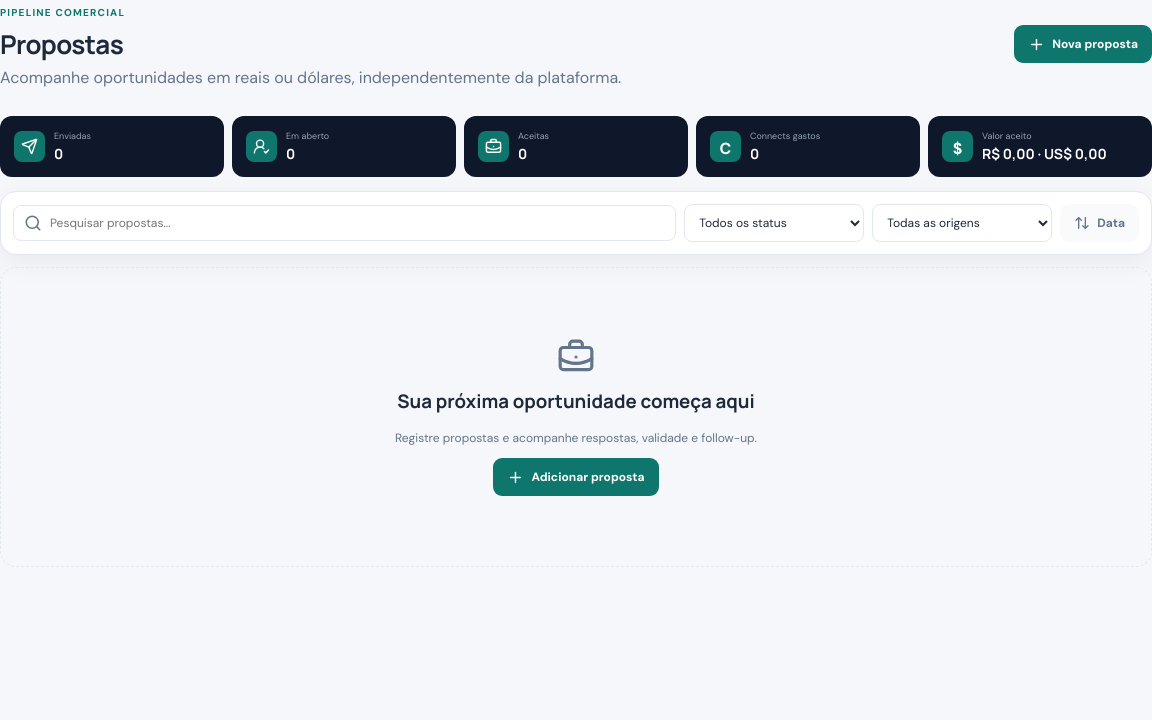
Scenario: Propostas V2 › cria proposta em USD com dados opcionais apenas quando relevantes
Click the button "Nova proposta". click: (1083, 44)
box: [1014,25,1151,63]
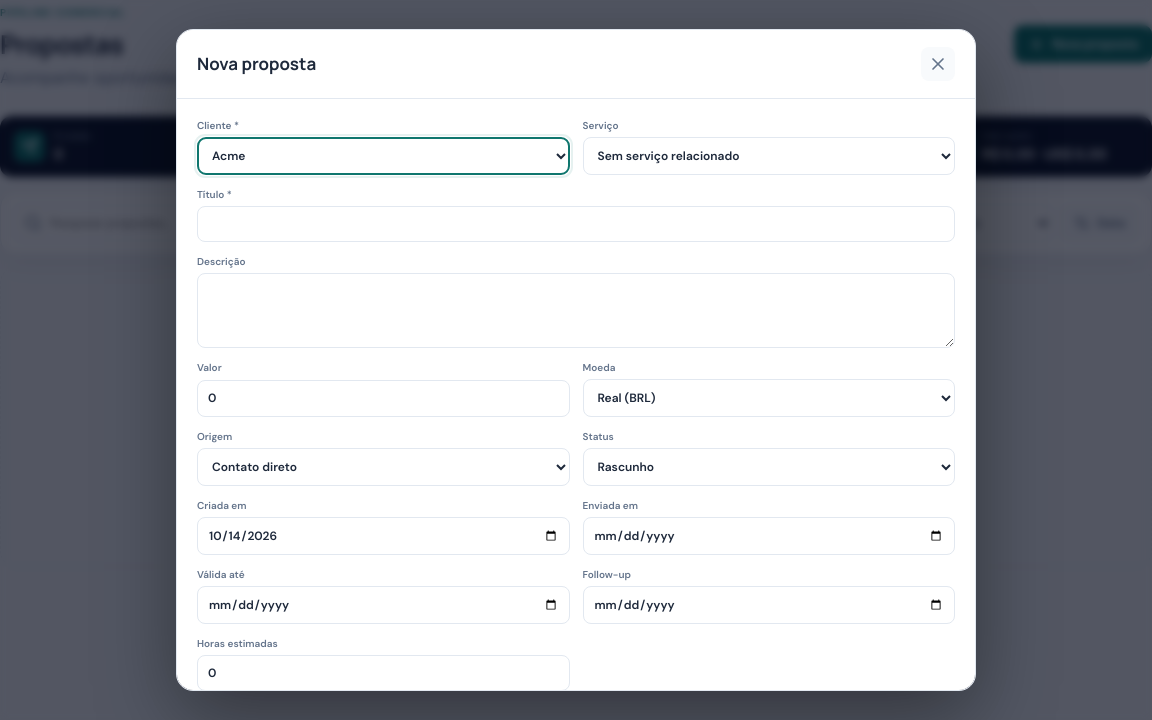
Type "API internacional" into the field labelled "Título *". click: (576, 224)
box: [197,206,955,242]
Replace the text in the number field labelled "Valor" with "800". click: (383, 398)
box: [197,380,570,417]
Select "Dólar (USD)" in the dropdown labelled "Moeda". click: (769, 398)
box: [582,379,955,417]
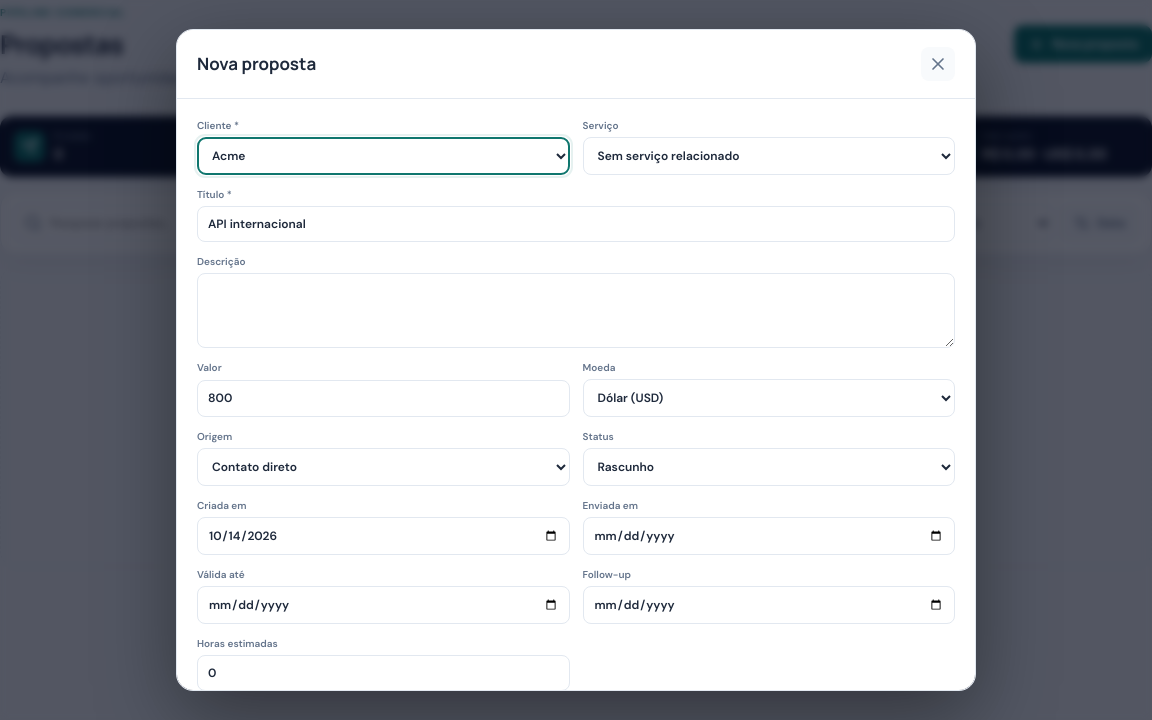
Select "Upwork" in the dropdown labelled "Origem". click: (383, 467)
box: [197,448,570,486]
(page scrolled)
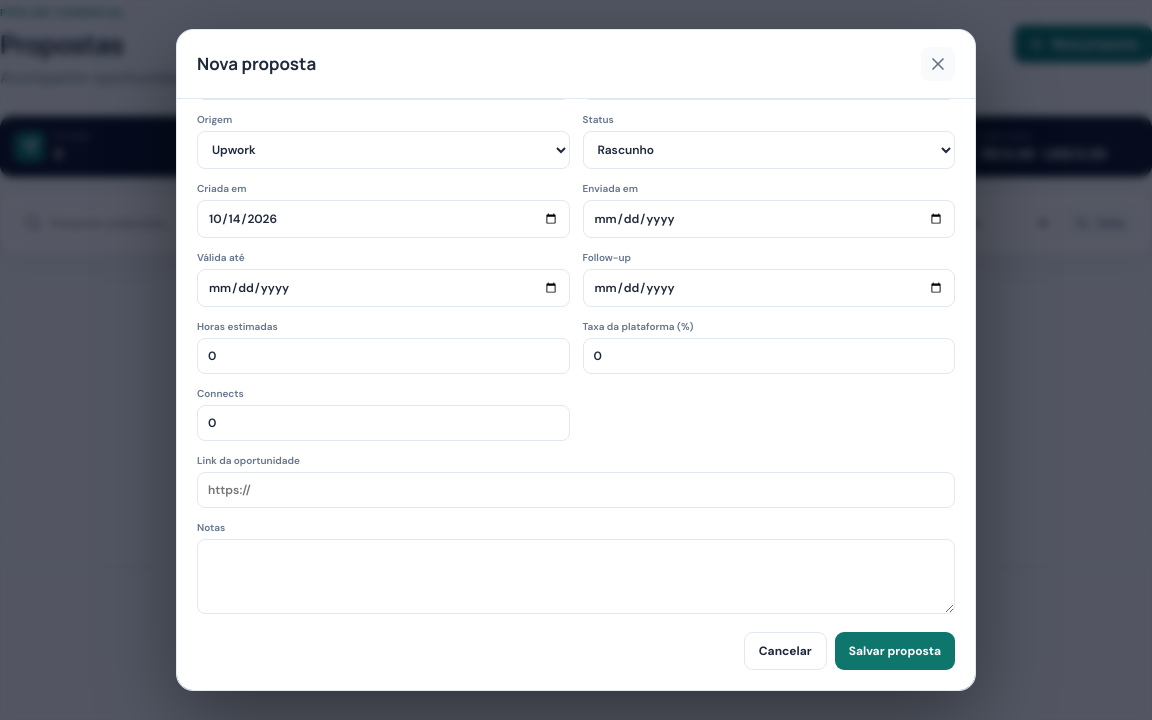
Replace the text in the number field labelled "Connects" with "10". click: (383, 423)
box: [197,405,570,441]
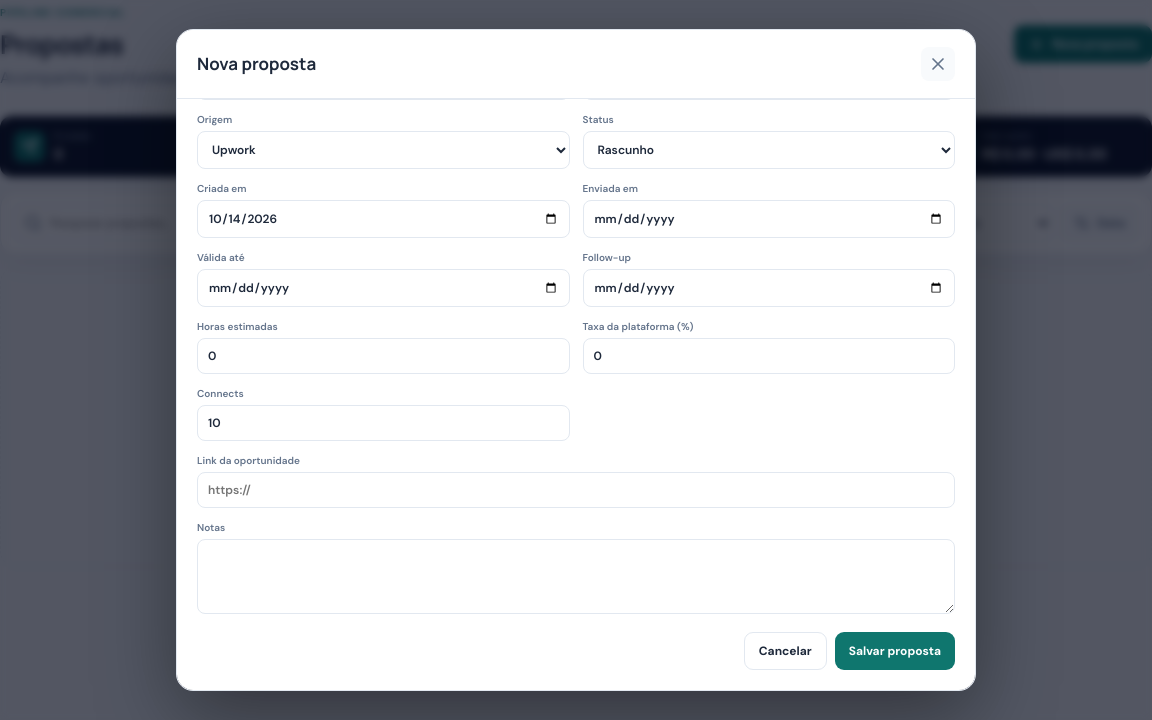
Type "https://example.com/job" into the field labelled "Link da oportunidade". click: (576, 490)
box: [197,472,955,508]
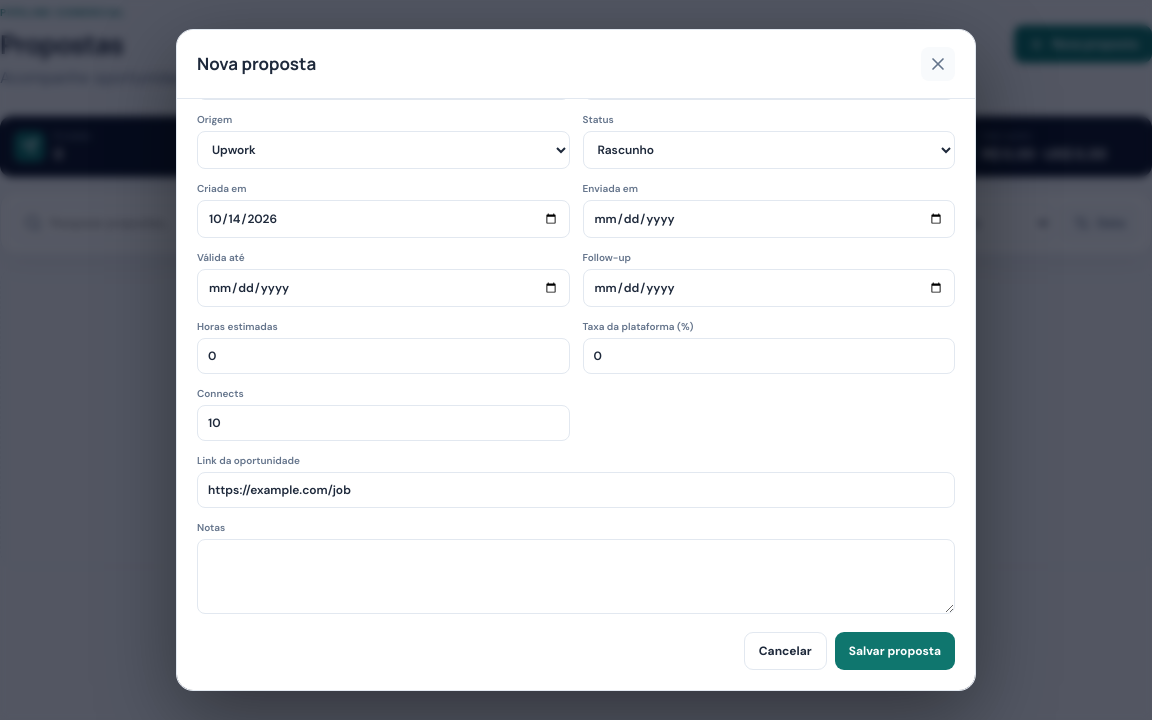
Click the button "Salvar proposta". click: (895, 651)
box: [835,632,955,670]
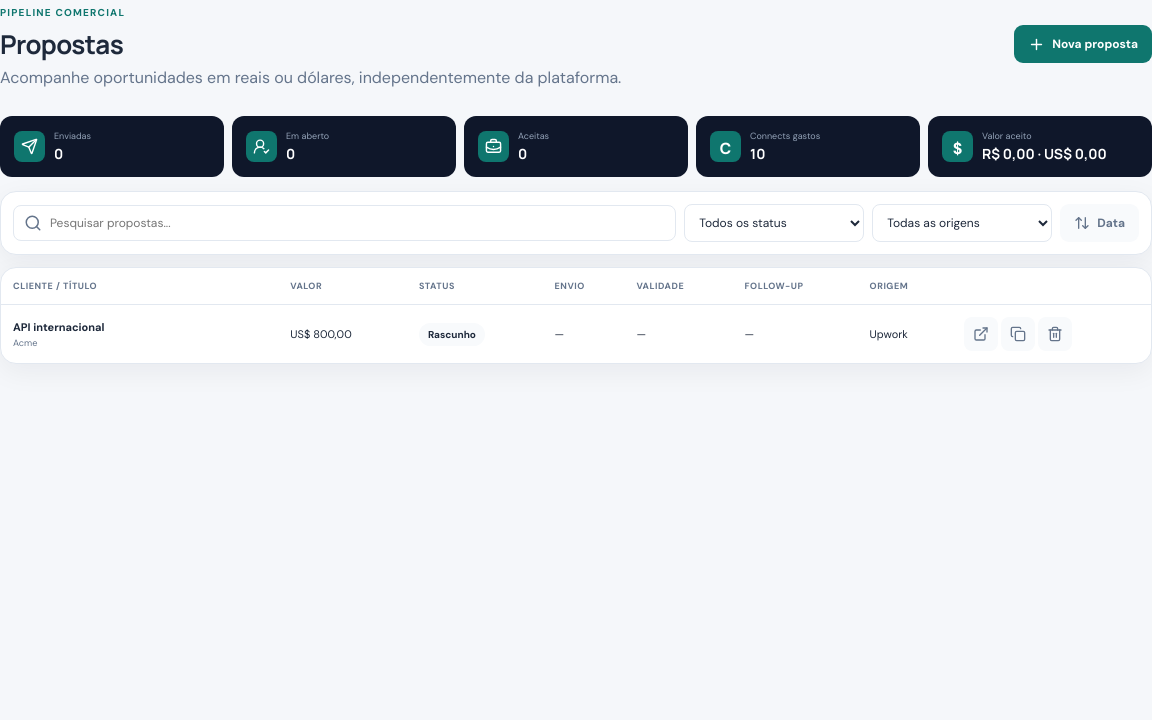
Result: the text "US$ 800,00" is shown at [278,304,407,363]
